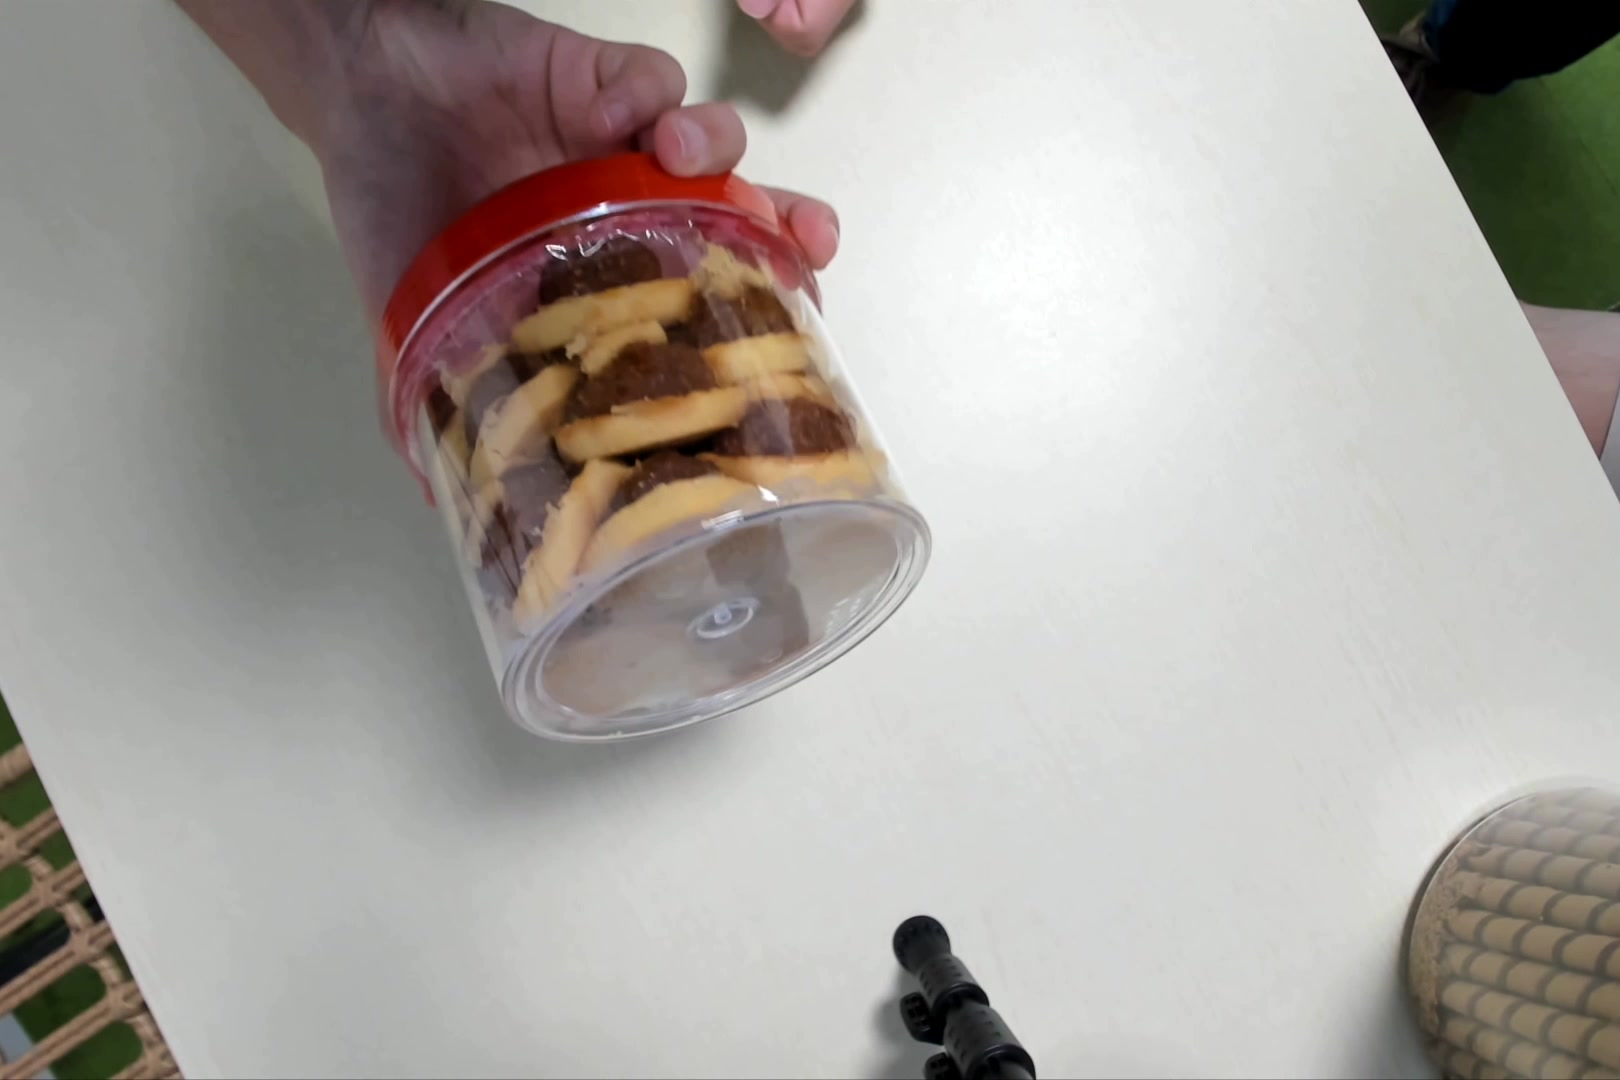BiscuitsCrackersCookies_400-499g_Halal_NonHealthy: (363, 148, 918, 756)
